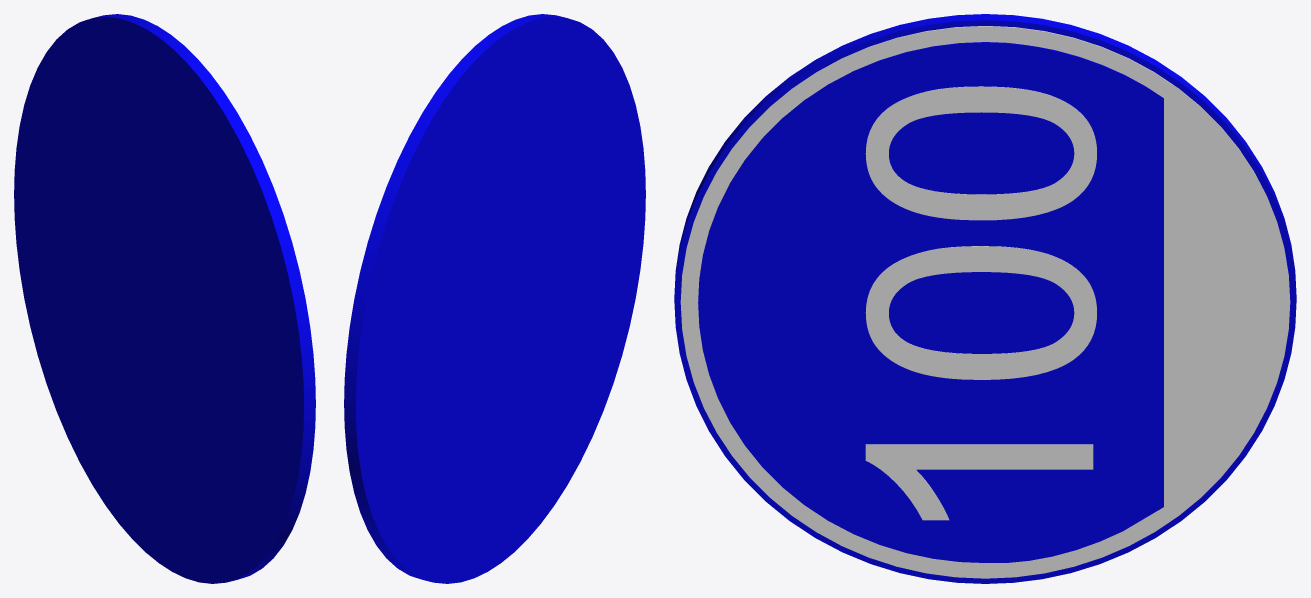
File: 最低限速100.gltf
The picture shows the model from 3 angles, left to right: view 1: azimuth 30°, elevation 25°; view 2: azimuth 150°, elevation 25°; view 3: azimuth 270°, elevation 25°; orthographic projection. The views are drawn at different scales.
Parts seen in each view (by area): view 1: 最低时速限制100; view 2: 最低时速限制100; view 3: 最低时速限制100.
Part boxes in pixels (x1,y1,x2,y2): 最低时速限制100: [14, 14, 315, 583]; 最低时速限制100: [344, 14, 645, 583]; 最低时速限制100: [674, 14, 1296, 583].
Bounding box in the file's own units: 0.0209 × 0.7691 × 0.7691.
